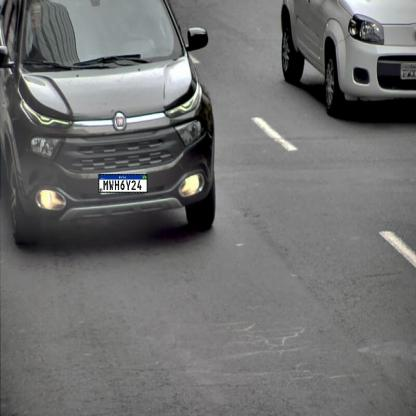PlacaM: (98, 174, 148, 193)
